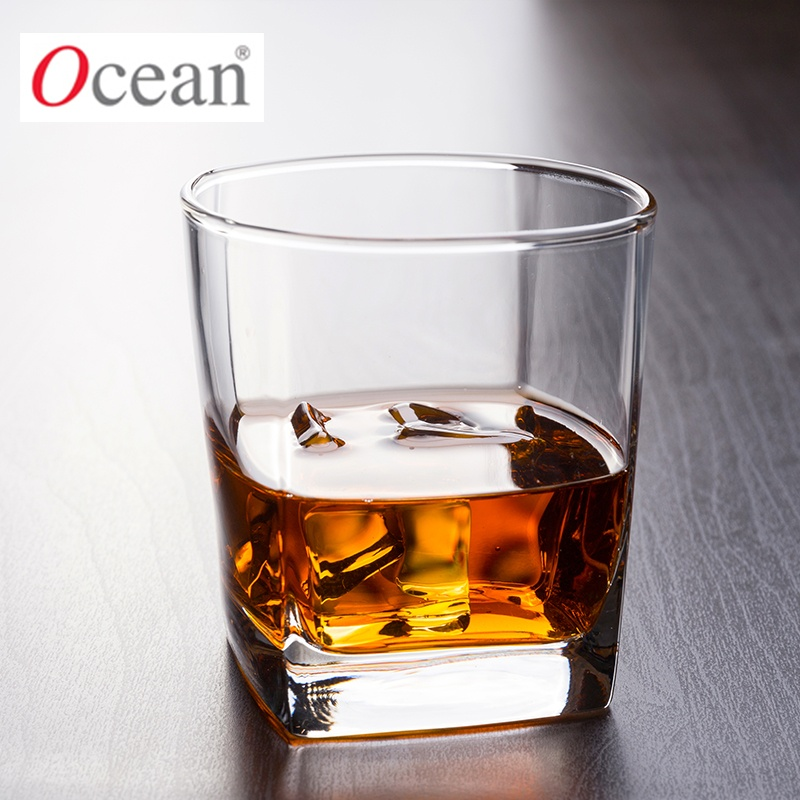whiskey: (178, 149, 639, 720)
